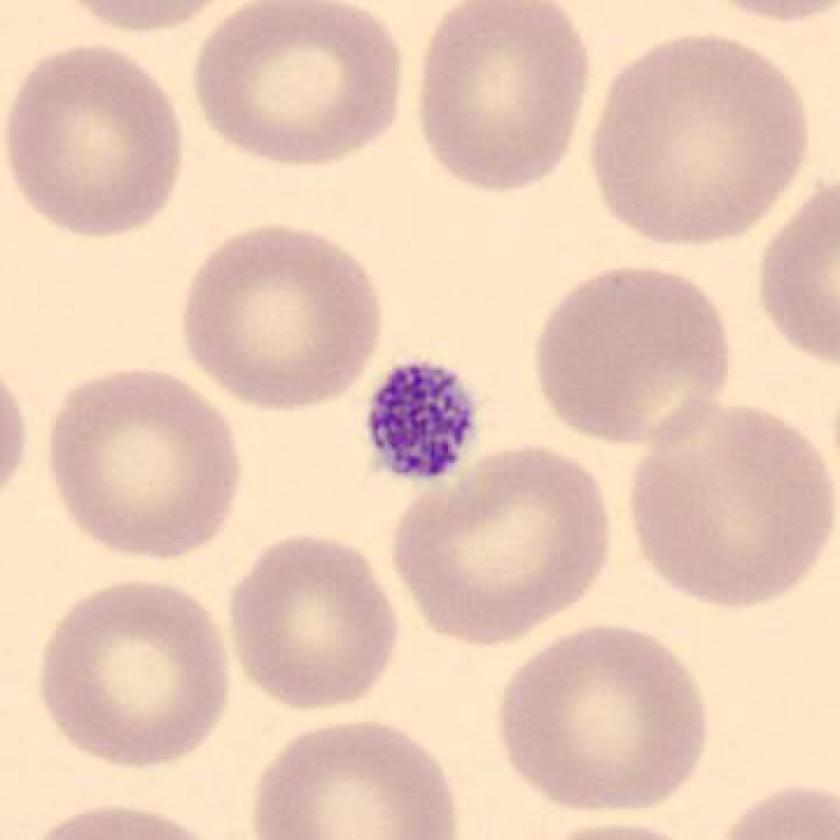platelets: (349, 355, 491, 499)
